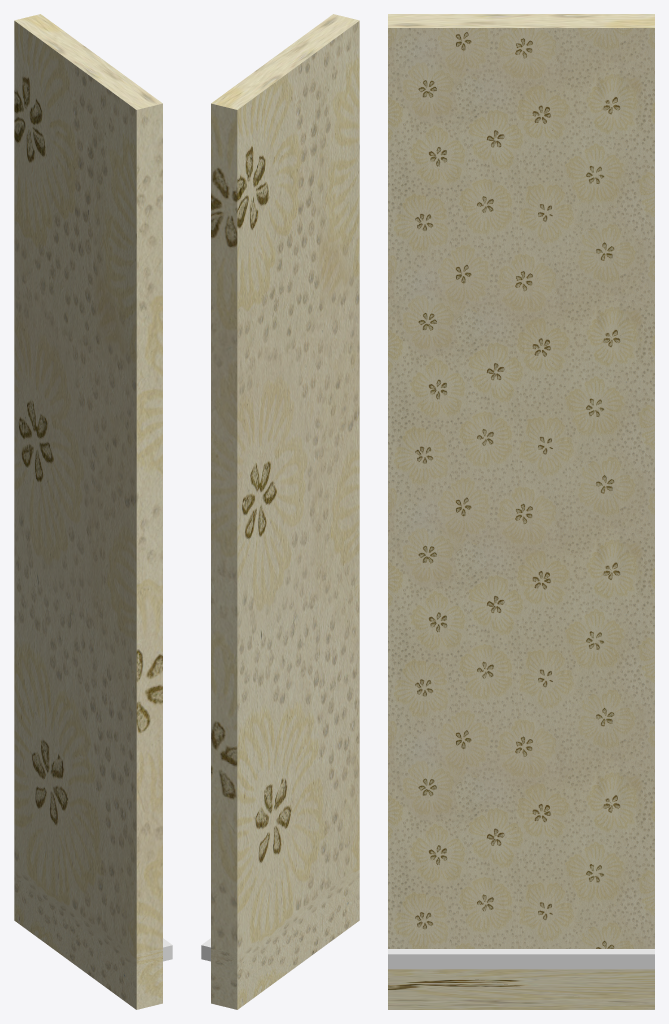
Rendered from wall.fbx.
3 views of the same model, side by side, from view 1: azimuth 30°, elevation 25°; view 2: azimuth 150°, elevation 25°; view 3: azimuth 270°, elevation 25° (orthographic). The views are drawn at different scales.
Visible parts, largest first — view 1: wall; view 2: wall; view 3: wall.
Part boxes in pixels (x1,y1,x2,y2): wall: [14, 14, 172, 1009]; wall: [201, 14, 359, 1009]; wall: [388, 14, 654, 1009].
Size of the model in its own units: 137 by 3248 by 800.
